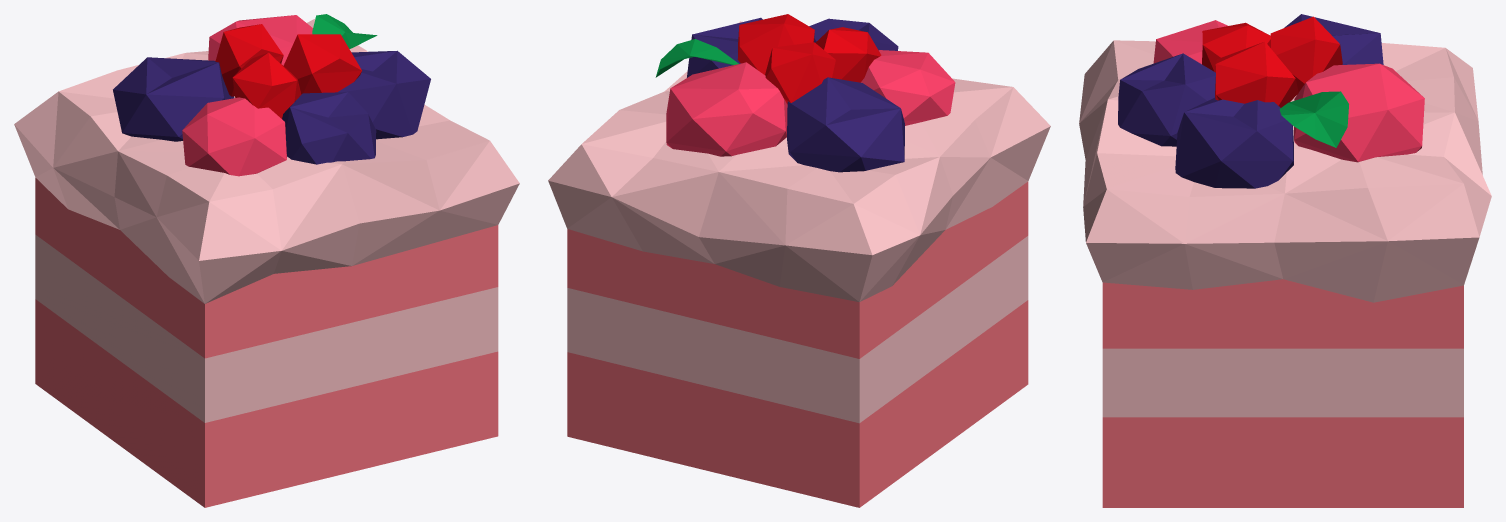
Rendered from cake_berries.fbx.
3 renders of one model, left to right at view 1: azimuth 30°, elevation 25°; view 2: azimuth 150°, elevation 25°; view 3: azimuth 270°, elevation 25°, orthographic. The views are drawn at different scales.
Visible parts, largest first — view 1: cake_berries; view 2: cake_berries; view 3: cake_berries.
Part boxes in pixels (x1,y1,x2,y2): cake_berries: (14, 14, 519, 507); cake_berries: (548, 14, 1050, 507); cake_berries: (1079, 14, 1491, 507).
Size of the model in its own units: 6.45 by 7.03 by 6.55.
